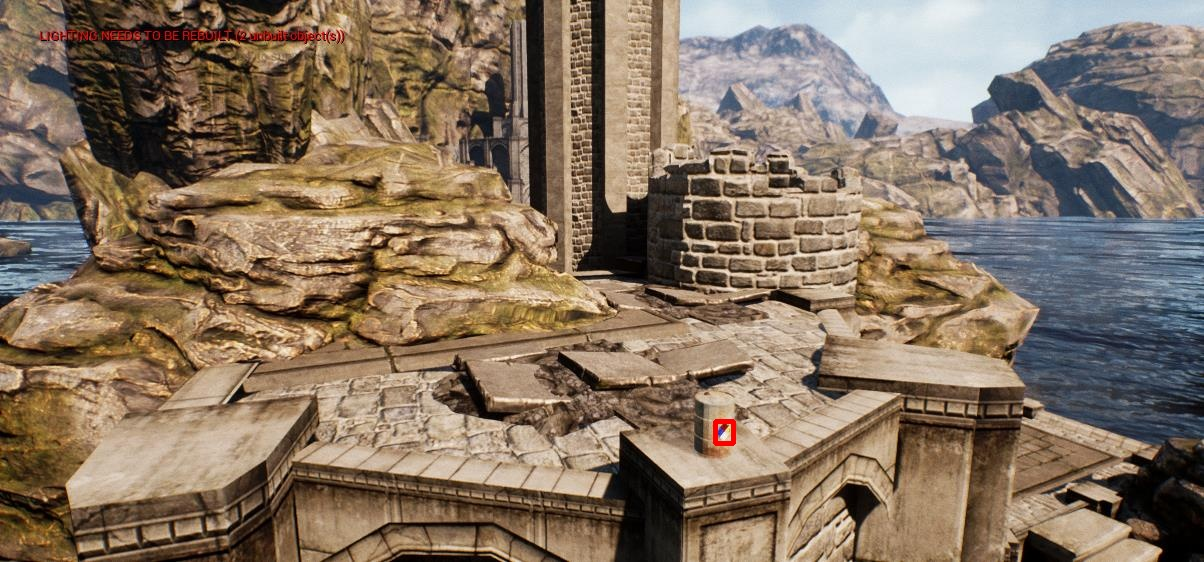nfpa: (715, 421, 733, 443)
